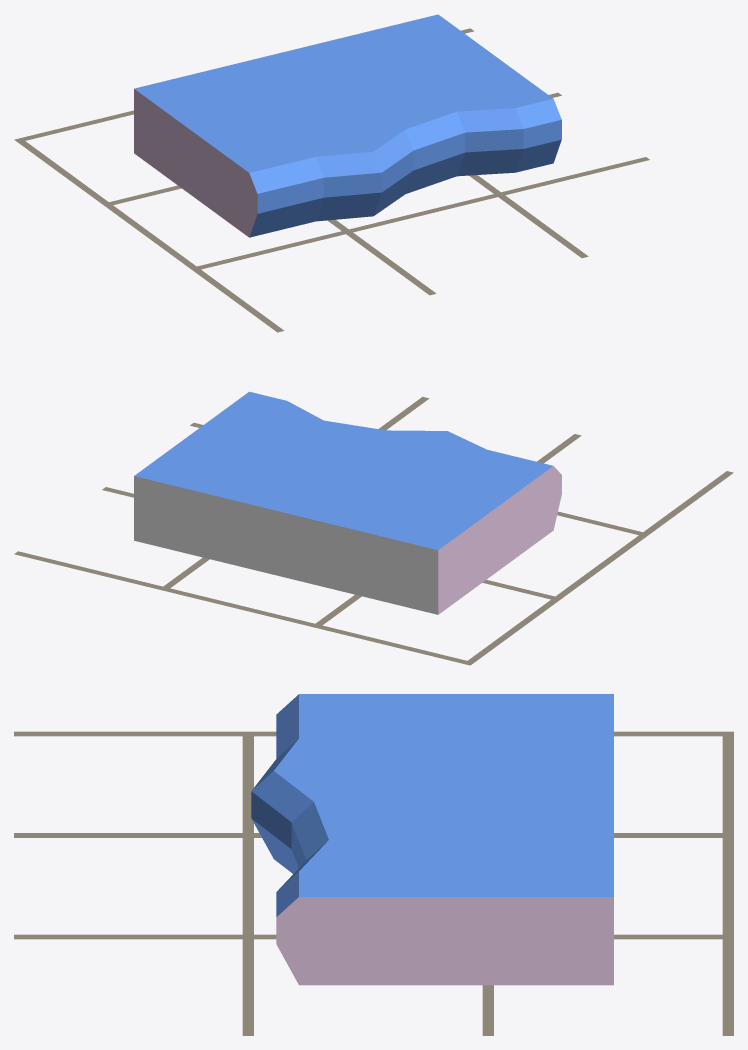
The model's file is Iceberg_Straight_2x2_2.glb.
3 renders of one model, top to bottom at view 1: azimuth 30°, elevation 25°; view 2: azimuth 150°, elevation 25°; view 3: azimuth 270°, elevation 25°, orthographic. The views are drawn at different scales.
Parts seen in each view (by area): view 1: Iceberg_Straight_2x2_2, Floor; view 2: Iceberg_Straight_2x2_2, Floor; view 3: Iceberg_Straight_2x2_2, Floor.
Boxes of the visible parts, x1,y1,x2,y2 form: Iceberg_Straight_2x2_2: (134,14,561,237); Floor: (14,28,649,332); Iceberg_Straight_2x2_2: (134,391,561,614); Floor: (14,396,733,665); Iceberg_Straight_2x2_2: (251,694,613,985); Floor: (14,731,733,1035).
Bounding box in the file's own units: 300 × 40.63 × 300.
Materials: 4 (1 with a texture image).
